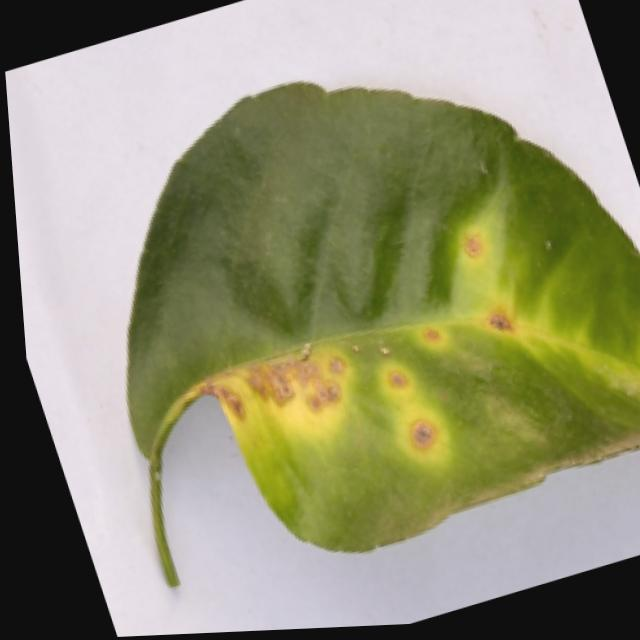canker: (127, 81, 640, 584), (188, 314, 456, 533), (443, 206, 544, 374), (404, 305, 450, 357)
